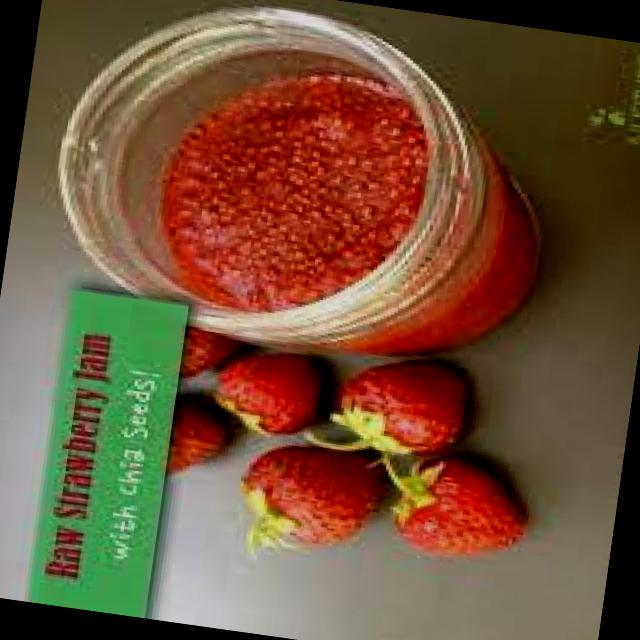strawberry: (227, 430, 390, 572), (336, 344, 472, 461), (384, 454, 533, 560), (204, 332, 336, 448)
